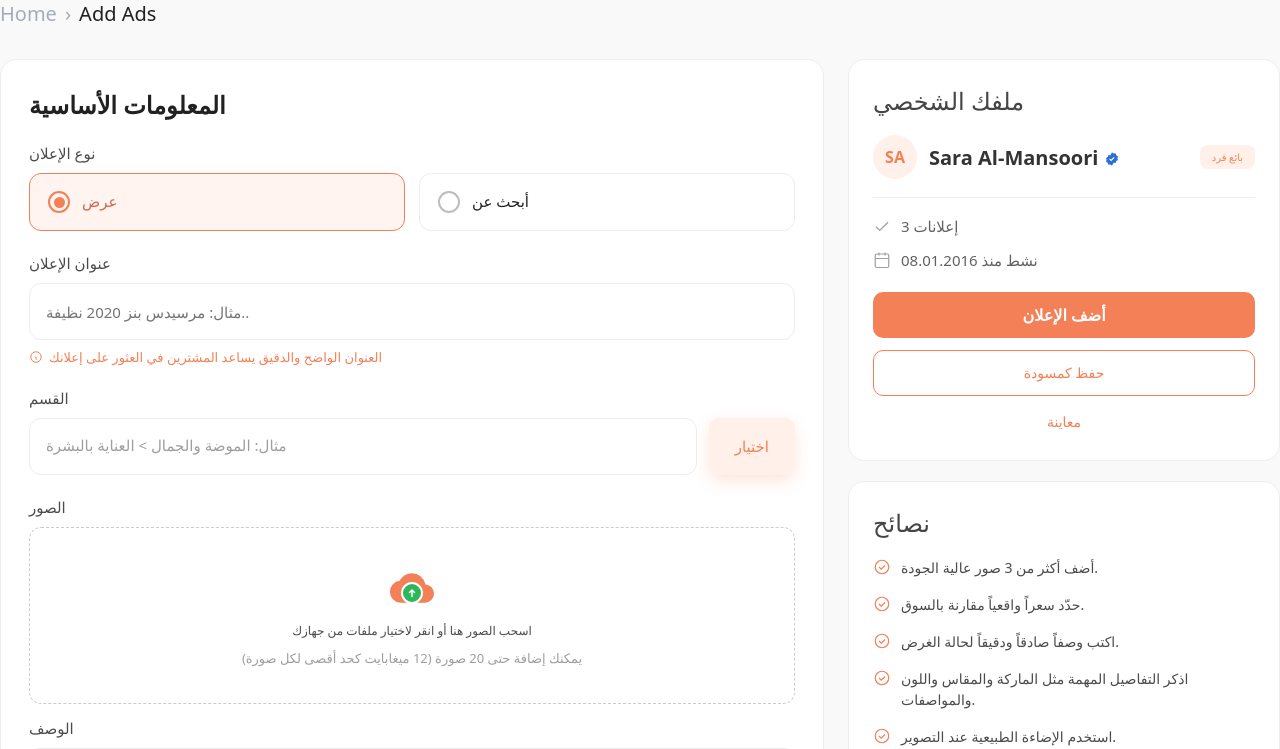
PostAdFlow › gives every element of the form its own id, so labels and focus find the right control
The width and height of the screenshot is (1280, 749).
Click the button "اختيار" at (752, 446), box [709,418,795,475]
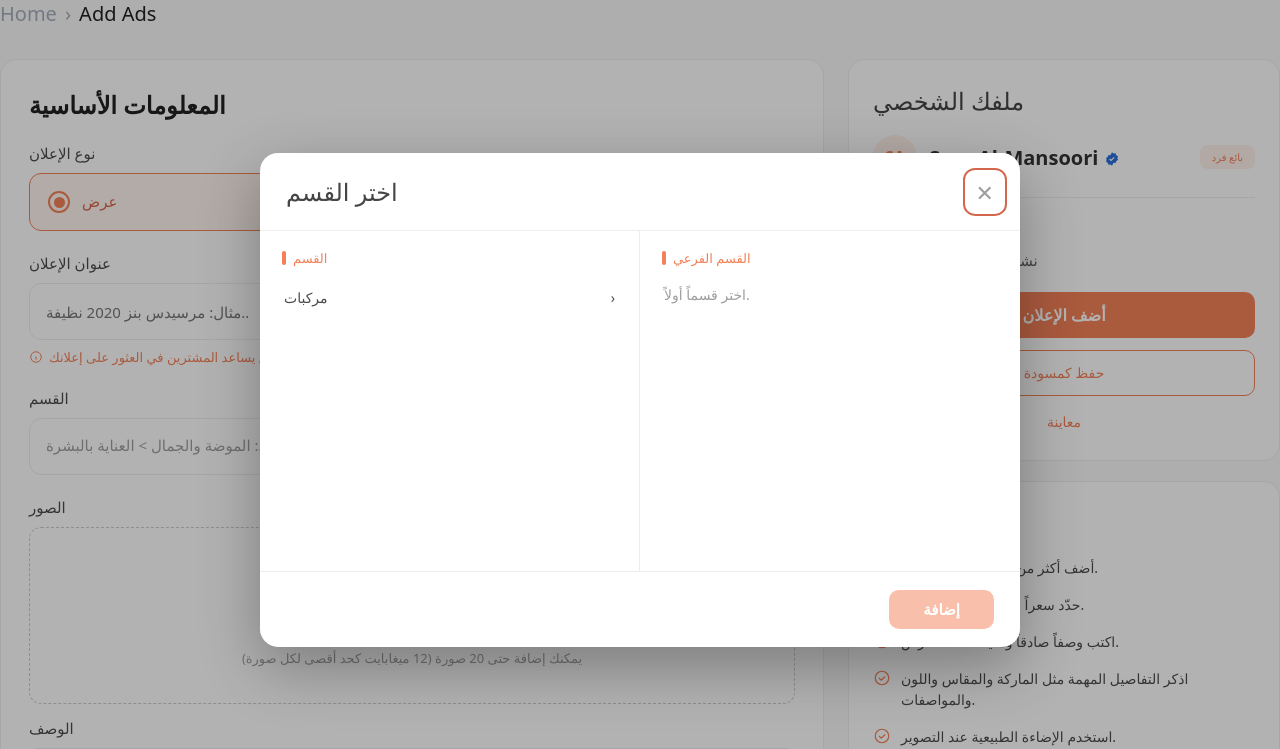
Check: the dialog is shown, box [260,153,1020,647]
